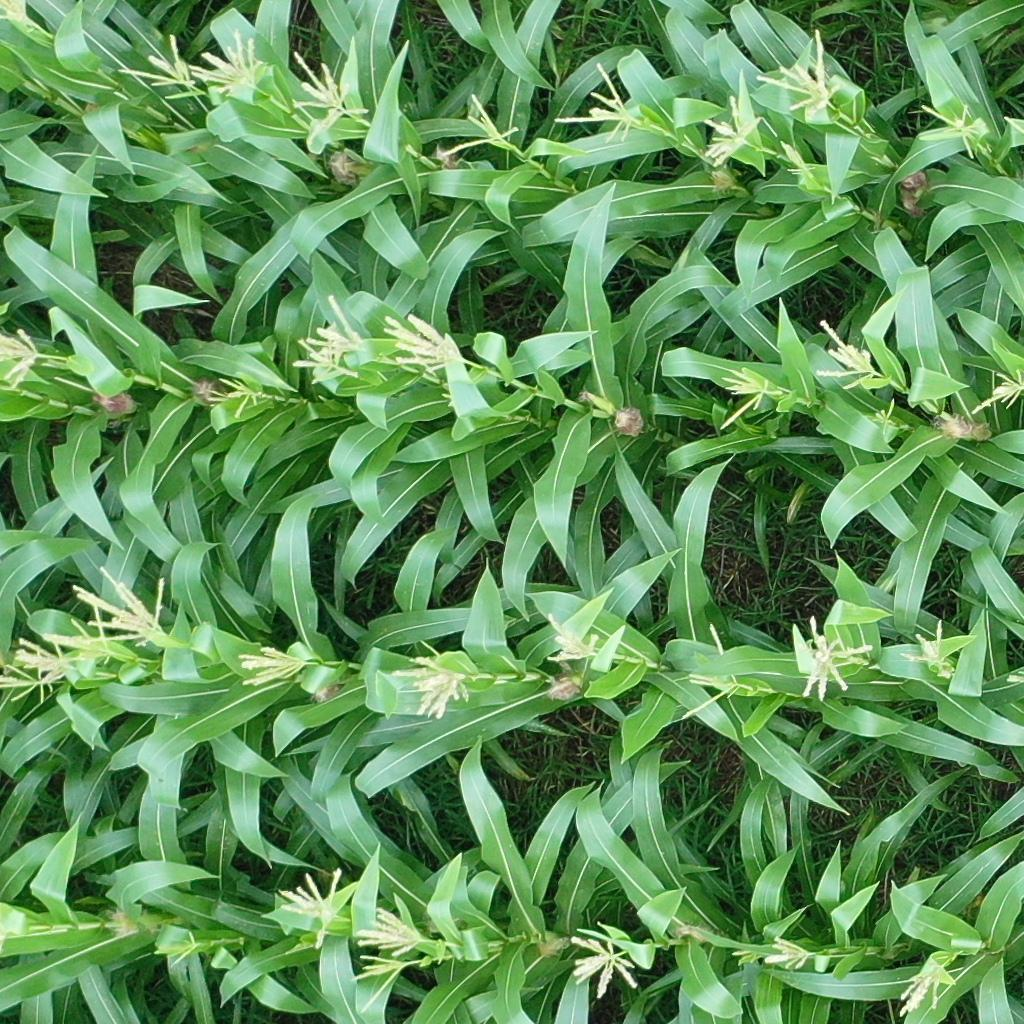Tassel: (62, 551, 190, 640), (289, 293, 370, 389), (755, 26, 842, 114), (557, 57, 639, 149), (286, 46, 363, 143), (677, 620, 742, 723), (798, 613, 877, 697), (272, 861, 347, 945), (113, 33, 201, 104), (390, 653, 475, 723), (188, 31, 275, 98), (440, 90, 521, 161), (380, 312, 464, 379), (911, 97, 994, 161), (1, 637, 81, 703), (693, 82, 755, 164), (570, 931, 647, 997), (351, 900, 426, 962), (813, 314, 872, 389), (350, 952, 420, 1013), (716, 366, 784, 428), (535, 615, 608, 672), (43, 605, 118, 659), (230, 638, 303, 690), (1, 324, 47, 390), (896, 960, 944, 1017), (966, 367, 1024, 414), (754, 931, 817, 971), (905, 619, 949, 674), (216, 374, 264, 420), (152, 928, 203, 971), (1, 1, 46, 38), (775, 136, 813, 179)
